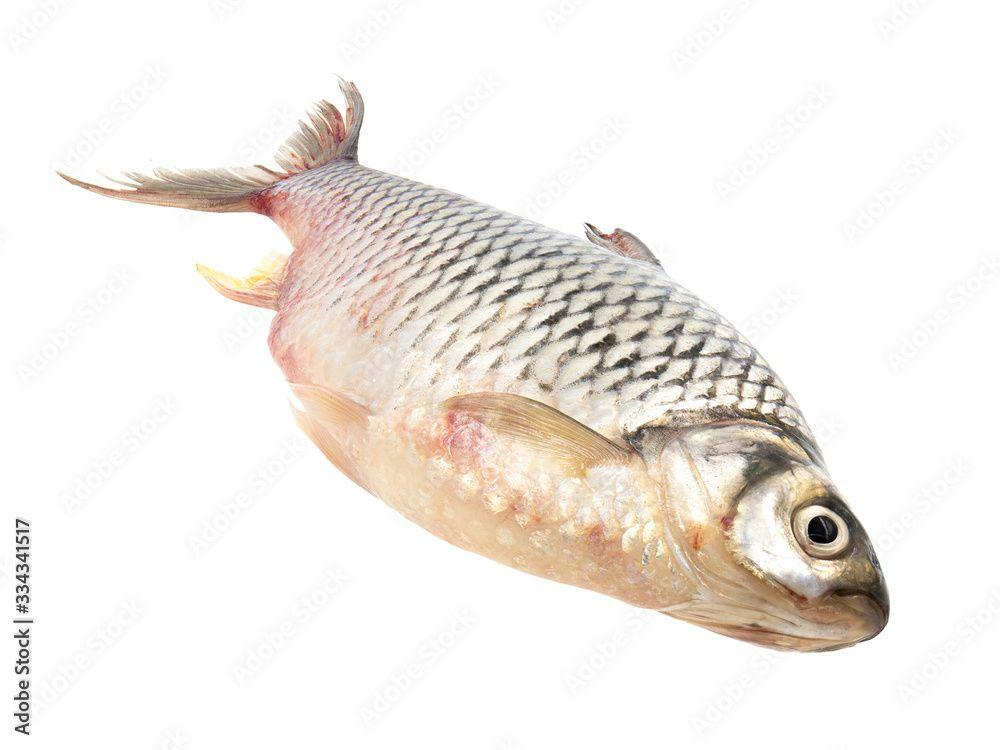Silver Barb: (57, 78, 892, 654)
